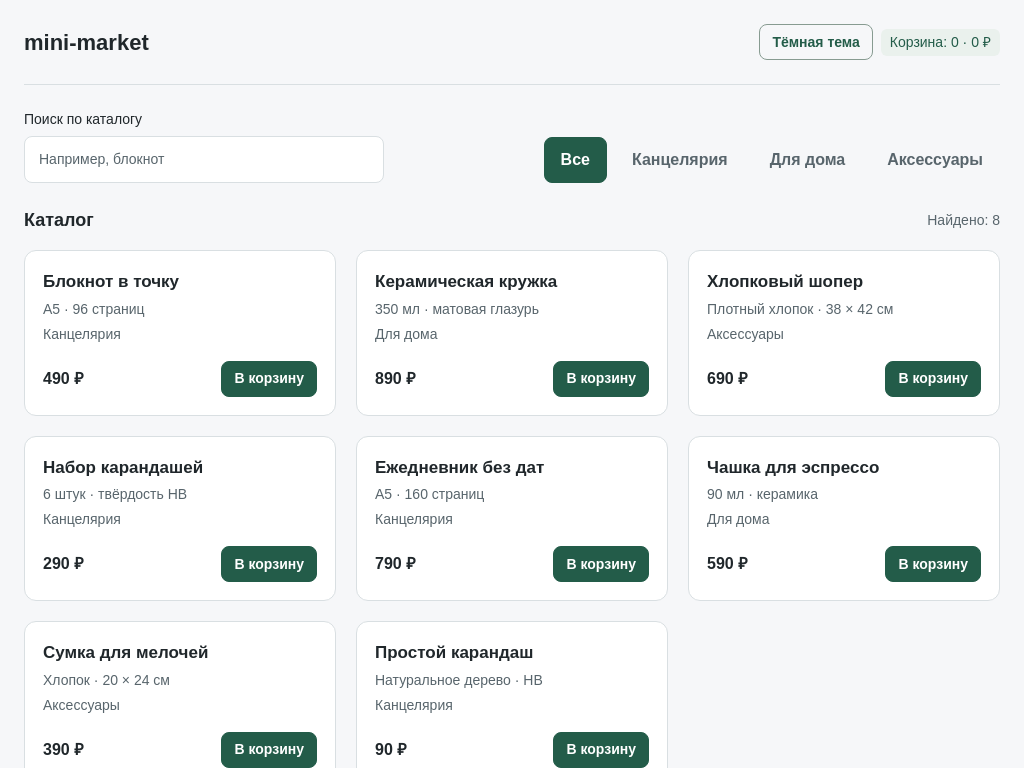
Test: Каталог › блокирует повторное добавление при loading, считает количество и сумму
The width and height of the screenshot is (1024, 768).
Click the button with aria-label "В корзину: Блокнот в точку". click: click(269, 378)
box: [221,360,317,396]
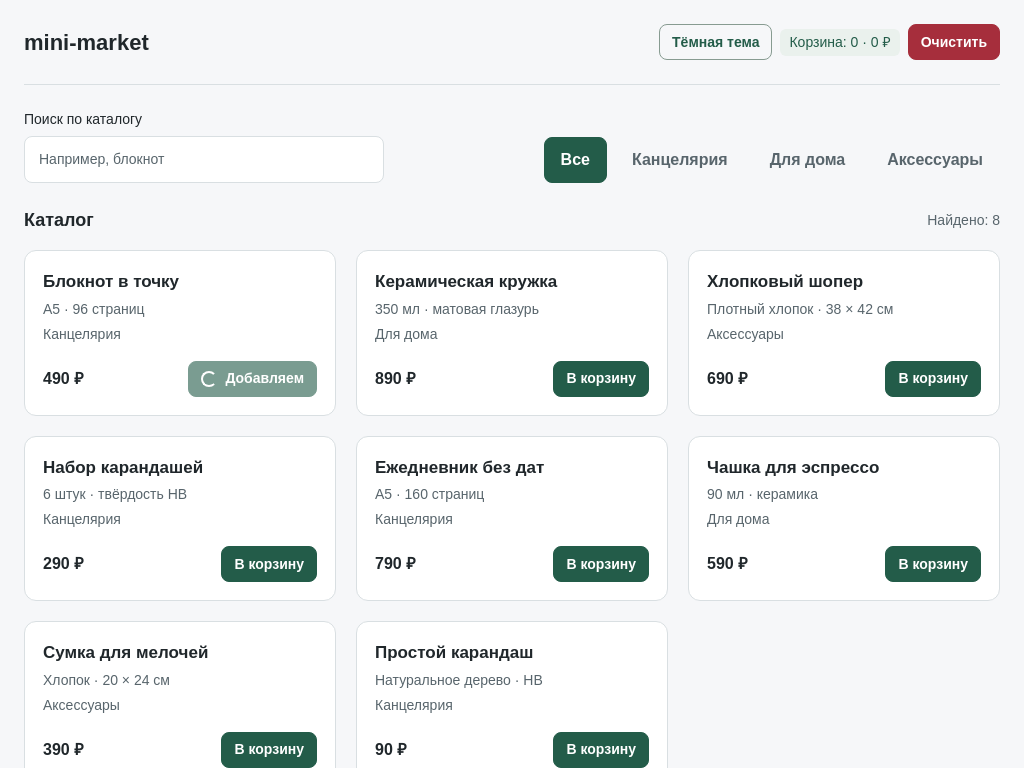
Now the button with aria-label "В корзину: Блокнот в точку" is disabled
Click the button with aria-label "В корзину: Блокнот в точку". click: click(253, 378)
box: [188,360,317,396]
Wait 600 ms
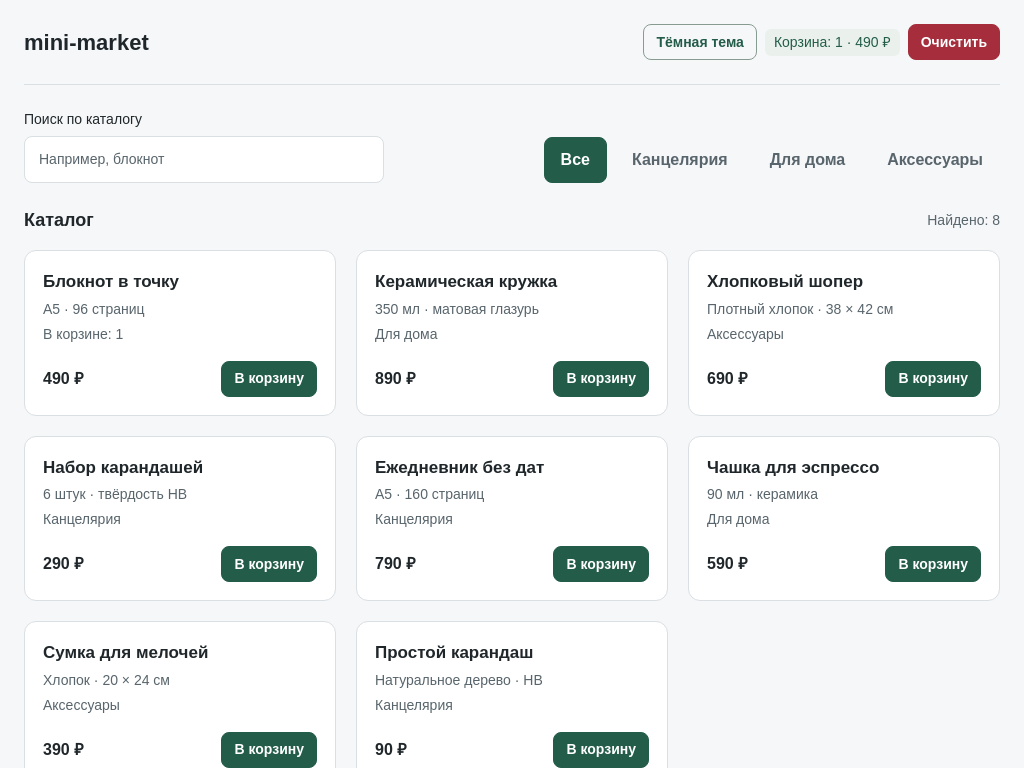
Now the text "Корзина: 1 · 490 ₽" is shown, box [765,28,900,56]
Click the button with aria-label "В корзину: Блокнот в точку". click: click(269, 378)
box: [221,360,317,396]
Wait 600 ms
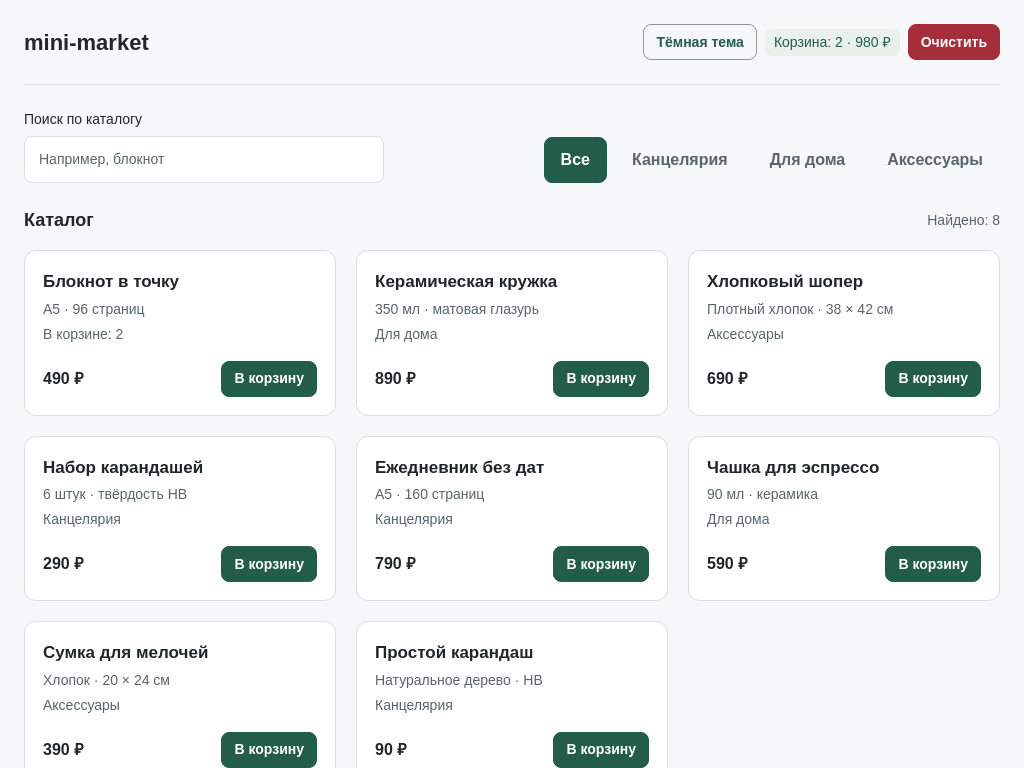
Now the text "Корзина: 2 · 980 ₽" is shown, box [765,28,900,56]
